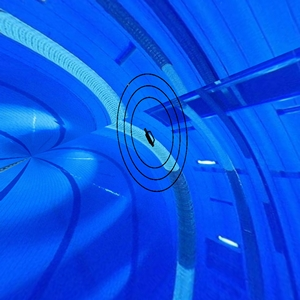circle: (115, 72, 191, 197)
submarine: (141, 127, 164, 154)
